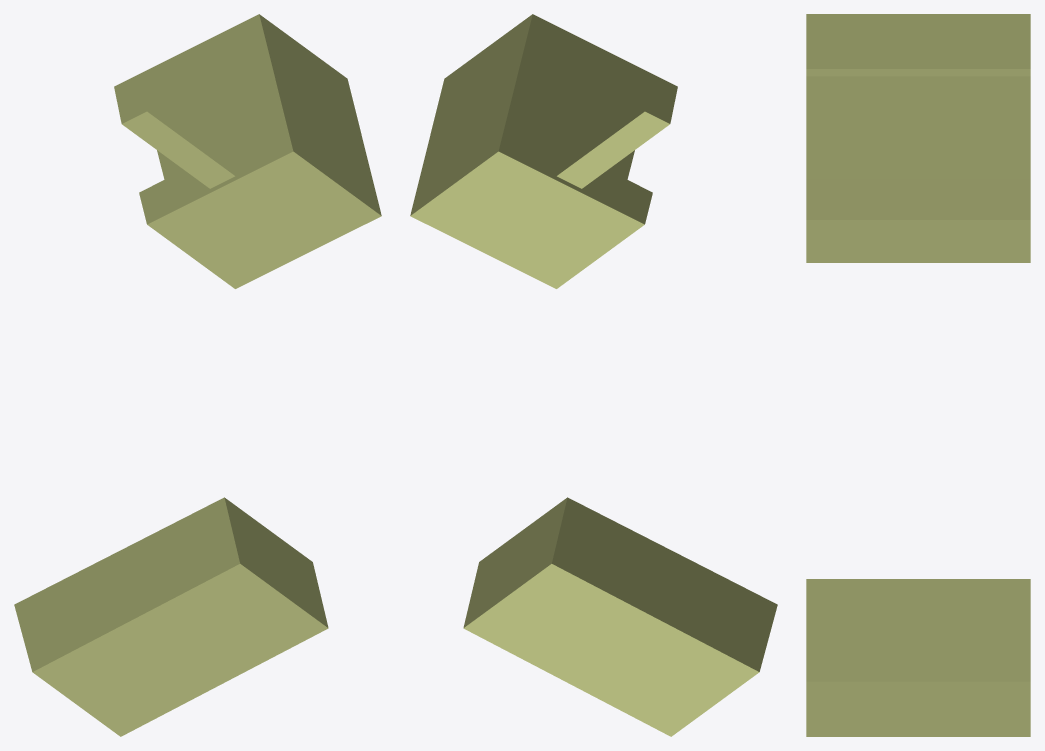
3 views of the same model, side by side, from view 1: azimuth 30°, elevation 25°; view 2: azimuth 150°, elevation 25°; view 3: azimuth 270°, elevation 25° (orthographic). The views are drawn at different scales.
Visible parts, largest first — view 1: 0_1_2_0_3_3_0_3_3; view 2: 0_1_2_0_3_3_0_3_3; view 3: 0_1_2_0_3_3_0_3_3.
Boxes of the visible parts, x1=… form: 0_1_2_0_3_3_0_3_3: x1=14, y1=14, x2=381, y2=736; 0_1_2_0_3_3_0_3_3: x1=410, y1=14, x2=777, y2=736; 0_1_2_0_3_3_0_3_3: x1=806, y1=14, x2=1030, y2=736.
Size of the model in its own units: 16.41 by 33.86 by 9.
